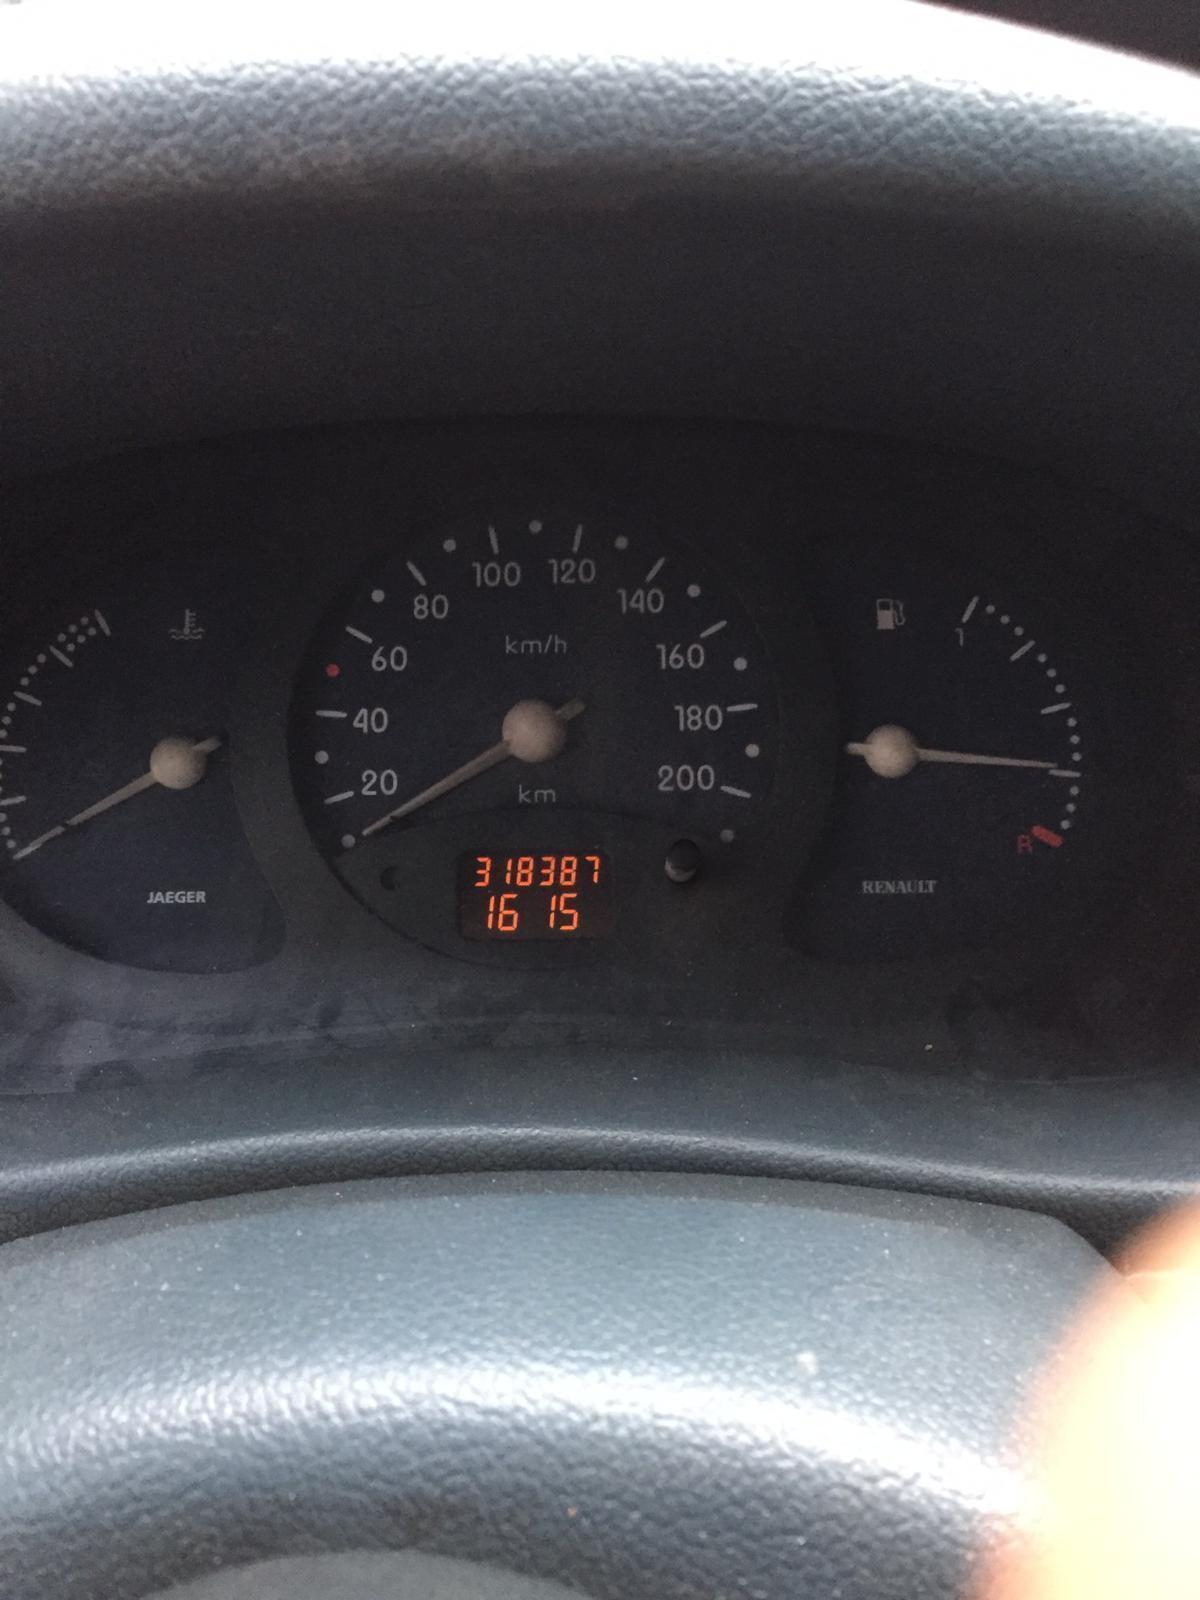1: (548, 893, 557, 929), (487, 894, 495, 929), (505, 858, 512, 884)
3: (473, 855, 492, 887), (538, 855, 555, 886)
5: (558, 892, 579, 930)
6: (497, 893, 521, 931)
7: (584, 855, 600, 884)
8: (516, 855, 534, 886), (558, 855, 577, 886)
odometer: (453, 845, 616, 945)
